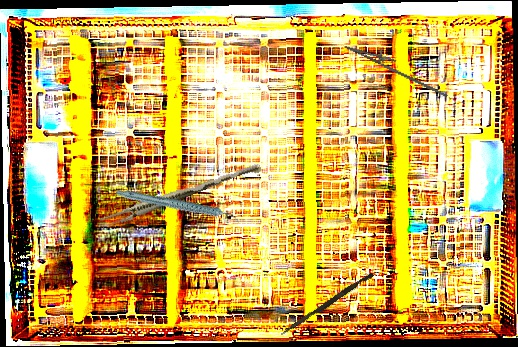Handpiece: (114, 165, 242, 248)
Needle Holder: (340, 37, 455, 98)
Pusher: (279, 270, 375, 339)
Tissue Forceps: (98, 157, 263, 232)
